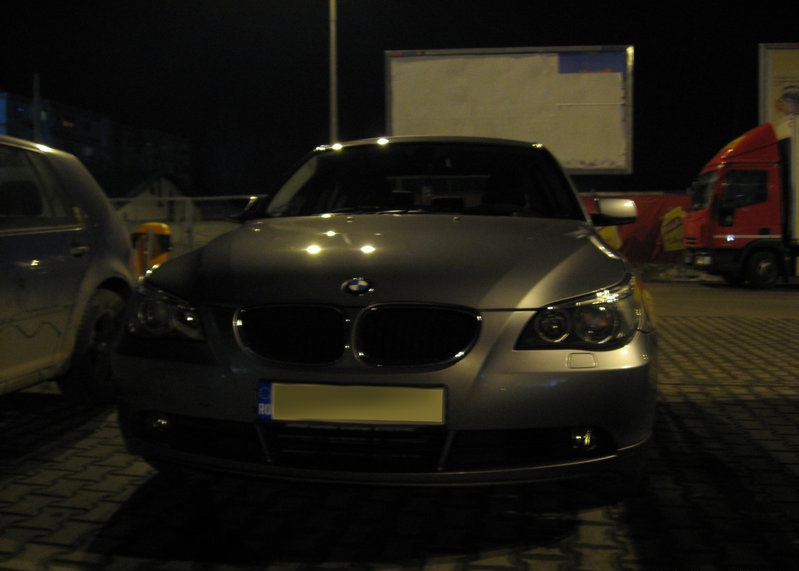car: (97, 120, 675, 525)
